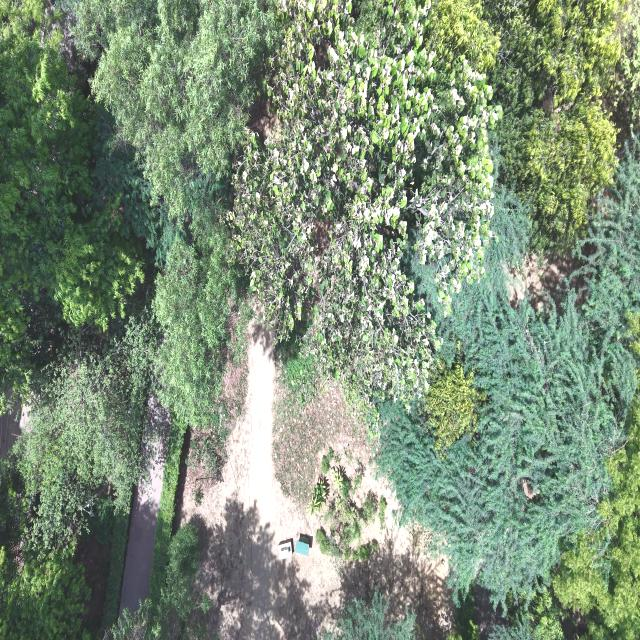DRY_AREA: (181, 324, 453, 639), (119, 440, 163, 614), (119, 463, 163, 614), (120, 458, 163, 611), (507, 254, 584, 310), (73, 534, 110, 635), (0, 402, 27, 457)
VEGETATION_TREE: (0, 0, 639, 639), (76, 1, 614, 412), (74, 2, 499, 408), (228, 2, 619, 406), (377, 2, 639, 601), (1, 2, 243, 539), (376, 149, 639, 601), (228, 2, 498, 410), (1, 1, 187, 583), (0, 1, 164, 636), (71, 0, 276, 439), (0, 11, 142, 397), (1, 12, 156, 351), (74, 0, 276, 218), (1, 36, 142, 328), (490, 393, 639, 639), (489, 0, 619, 252), (17, 312, 154, 545), (0, 460, 127, 639), (553, 393, 639, 639), (153, 224, 245, 438), (92, 104, 183, 297), (0, 463, 88, 639), (579, 132, 639, 339), (272, 381, 364, 508), (108, 524, 209, 639), (0, 548, 88, 639), (149, 422, 184, 598), (422, 360, 483, 457), (315, 464, 376, 561), (56, 0, 156, 58), (429, 0, 499, 70), (275, 316, 322, 419), (605, 1, 639, 140), (323, 588, 414, 639), (488, 585, 567, 639), (100, 510, 129, 630), (163, 524, 198, 617), (315, 527, 376, 567), (322, 500, 363, 558), (78, 490, 114, 544), (188, 431, 224, 480), (447, 588, 479, 639), (306, 476, 326, 516), (626, 312, 640, 356), (350, 539, 376, 561), (361, 490, 377, 523), (314, 527, 333, 553), (351, 459, 363, 494), (330, 465, 343, 491), (339, 474, 352, 498), (377, 496, 386, 529), (321, 447, 332, 473), (192, 486, 204, 506), (321, 455, 329, 472)
